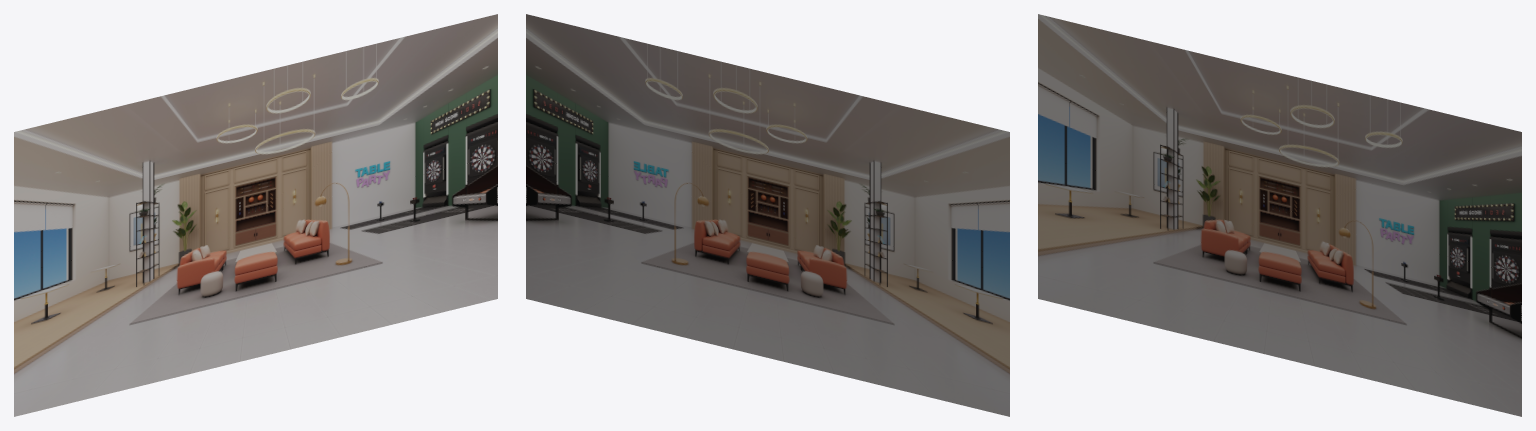
File: MyRoom_Plane.fbx
3 views of the same model, side by side, from view 1: azimuth 30°, elevation 25°; view 2: azimuth 150°, elevation 25°; view 3: azimuth 330°, elevation 25° (orthographic).
Parts seen in each view (by area): view 1: MyRoom_Plane; view 2: MyRoom_Plane; view 3: MyRoom_Plane.
Boxes of the visible parts, bbox=[...] form: MyRoom_Plane: bbox=[14, 14, 497, 416]; MyRoom_Plane: bbox=[526, 14, 1009, 416]; MyRoom_Plane: bbox=[1038, 14, 1521, 416].
Bounding box in the file's own units: 436 × 245 × 0.
